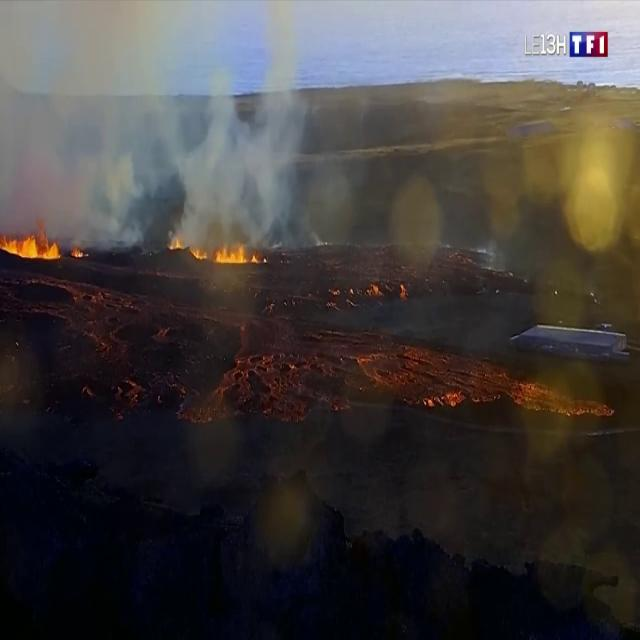Fire: (179, 232, 264, 270), (0, 231, 68, 264)
Smoke: (0, 9, 328, 249)
